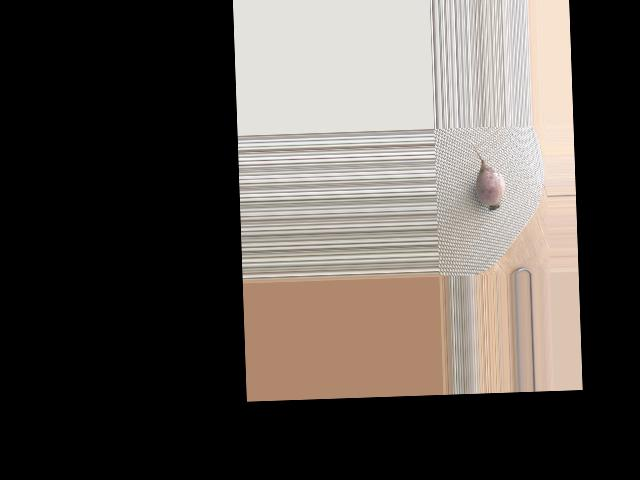beet: (467, 139, 505, 212)
